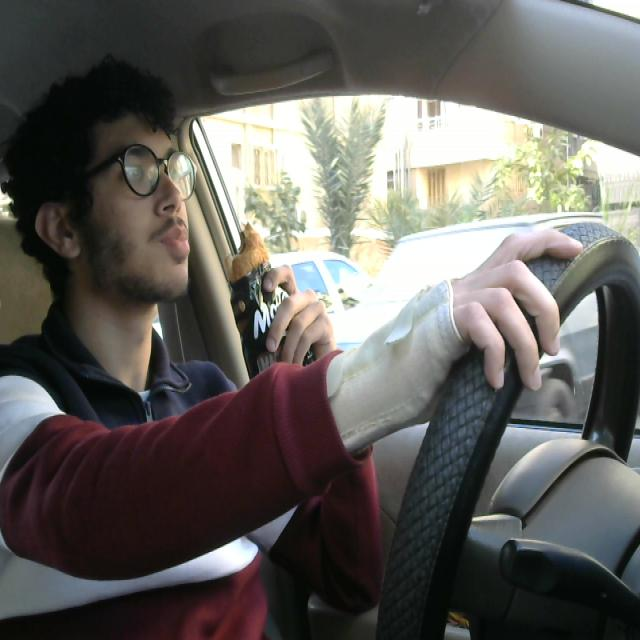eating: (218, 210, 338, 436)
